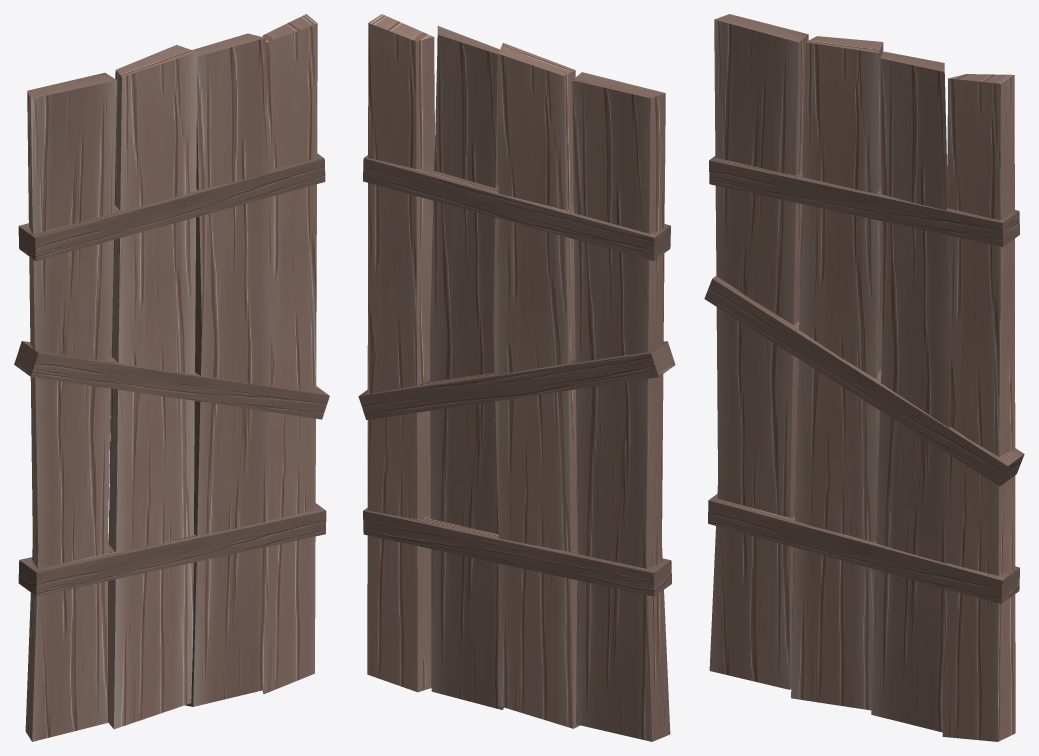
The picture shows the model from 3 angles, left to right: view 1: azimuth 30°, elevation 25°; view 2: azimuth 150°, elevation 25°; view 3: azimuth 330°, elevation 25°; orthographic projection.
Parts seen in each view (by area): view 1: submesh_0; view 2: submesh_0; view 3: submesh_0.
Part boxes in pixels (left/top/right/bottom): submesh_0: left=14, top=14, right=329, bottom=741; submesh_0: left=358, top=14, right=675, bottom=741; submesh_0: left=704, top=14, right=1024, bottom=741.
Size of the model in its own units: 1.07 by 2.25 by 0.1097.
Materials: 1 (1 with a texture image).
